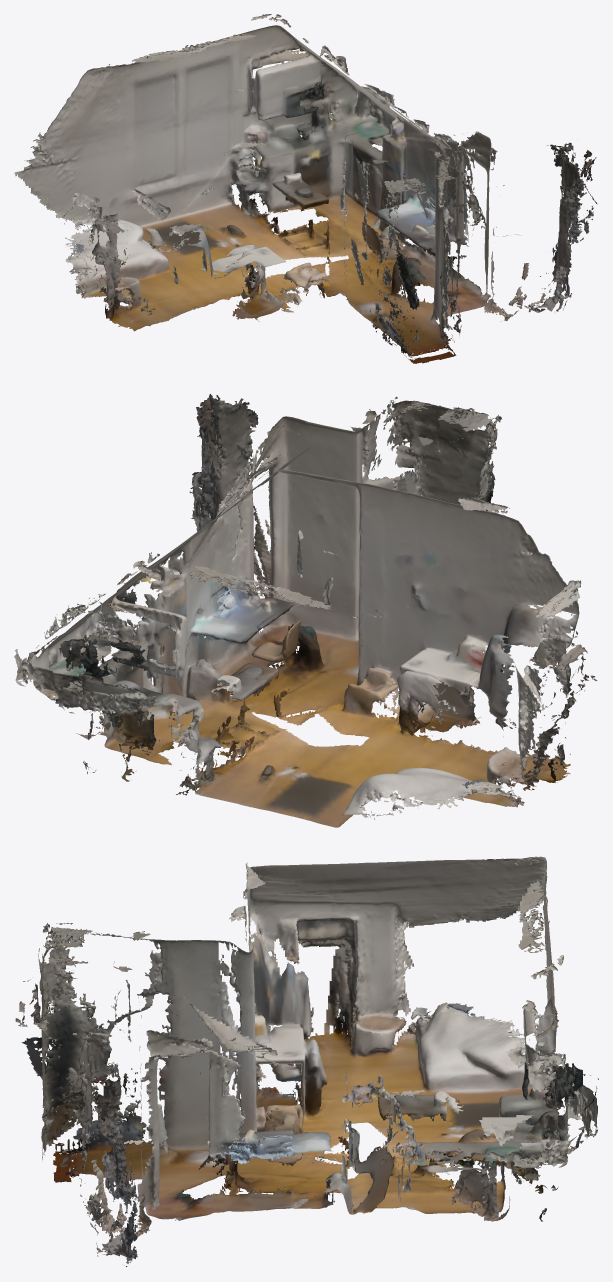
The model's file is scan-3a8d7fe09caa.glb.
The picture shows the model from 3 angles, top to bottom: view 1: azimuth 30°, elevation 25°; view 2: azimuth 150°, elevation 25°; view 3: azimuth 270°, elevation 25°; orthographic projection. The views are drawn at different scales.
Bounding box in the file's own units: 6.58 × 2.96 × 6.52.
